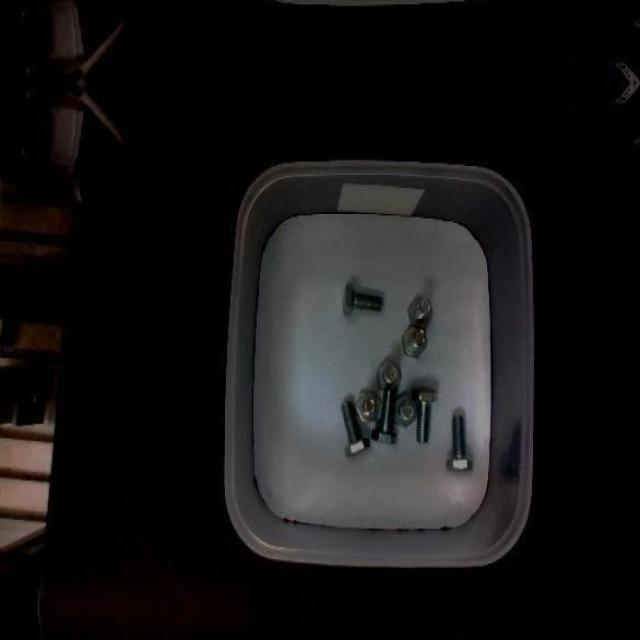screw: (341, 399, 370, 457), (445, 414, 473, 472), (412, 386, 439, 444), (372, 386, 398, 444), (342, 282, 381, 316), (355, 388, 380, 422), (394, 393, 417, 428), (402, 324, 427, 356), (377, 357, 402, 389), (408, 296, 432, 328)
